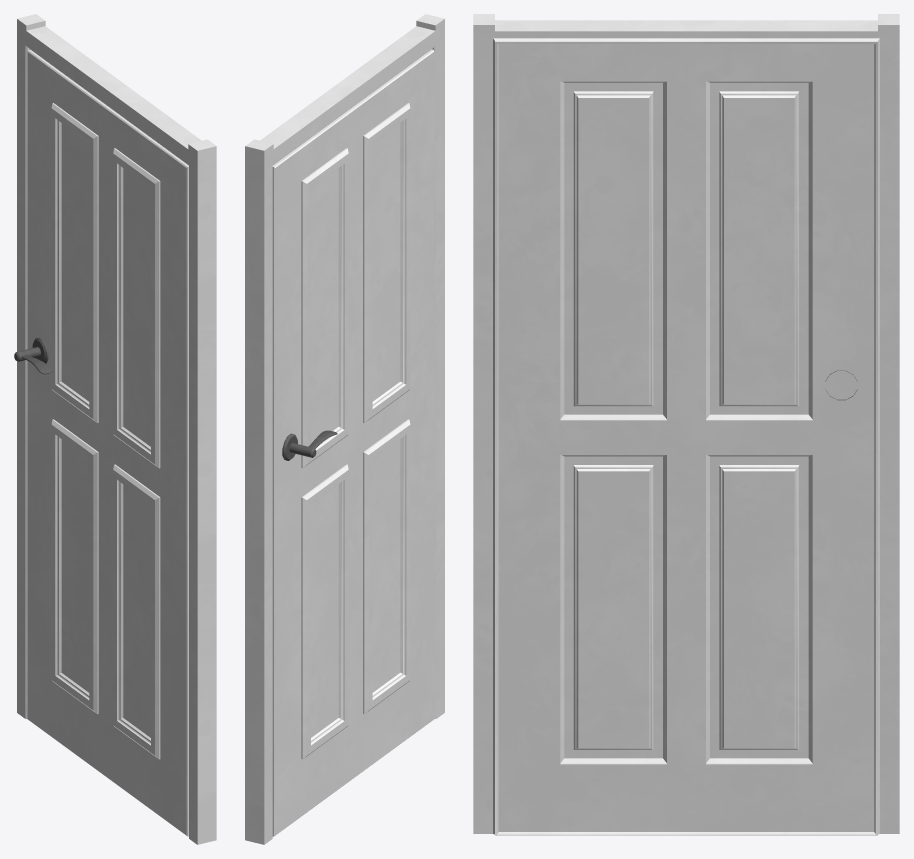
3 views of the same model, side by side, from view 1: azimuth 30°, elevation 25°; view 2: azimuth 150°, elevation 25°; view 3: azimuth 270°, elevation 25° (orthographic). The views are drawn at different scales.
Parts seen in each view (by area): view 1: Door; view 2: Door; view 3: Door.
Part boxes in pixels (left/top/right/bottom): Door: left=14, top=14, right=216, bottom=844; Door: left=245, top=14, right=444, bottom=844; Door: left=473, top=14, right=899, bottom=835.
Bounding box in the file's own units: 14.01 × 207 × 97.41.
1 material, 1 textured.
